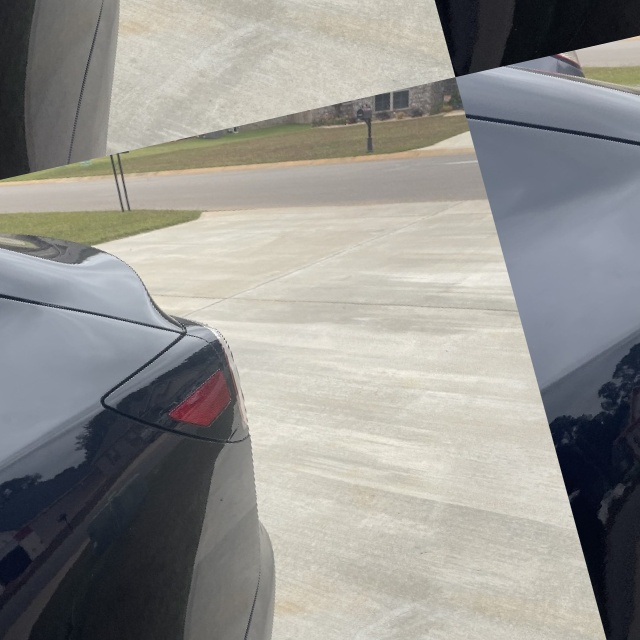reflector: (160, 368, 236, 433)
